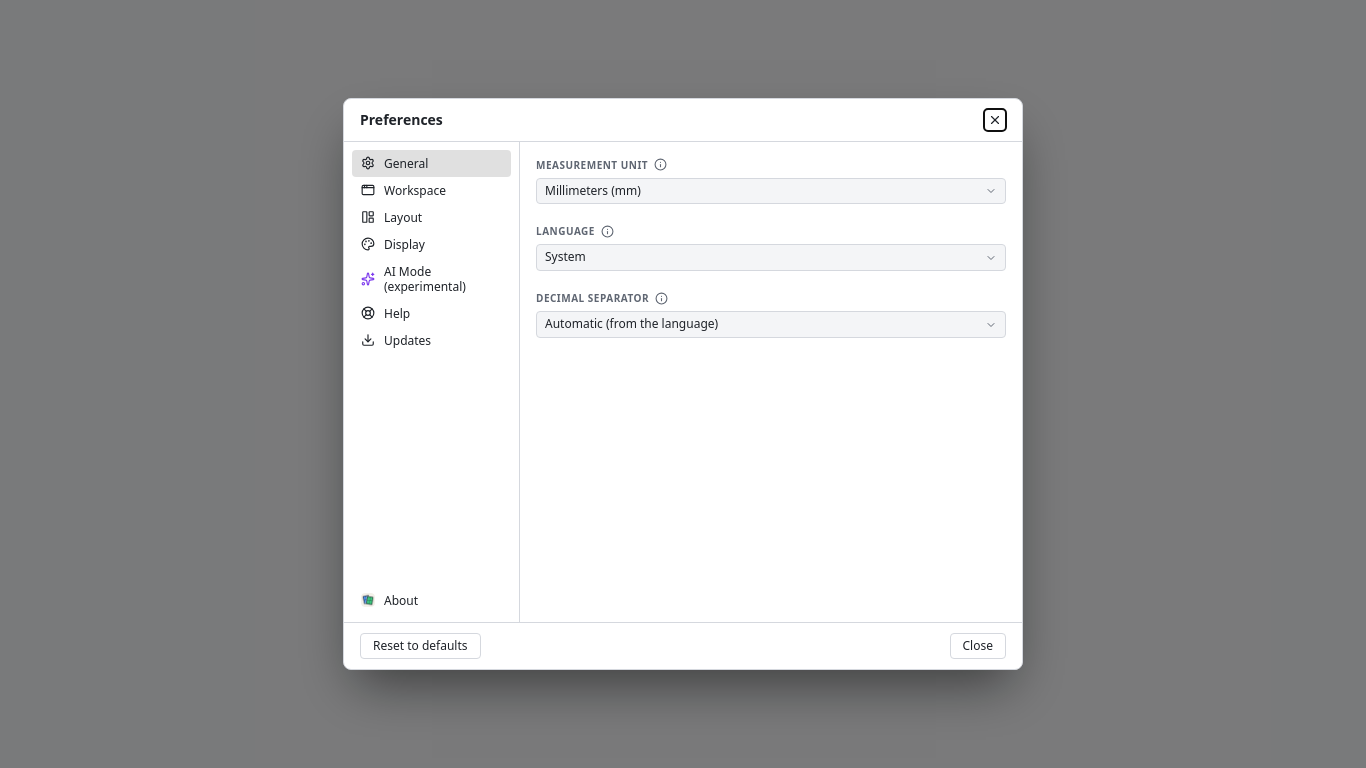
Test case: the Preferences sections › keeps only the views in Workspace
What coordinates should you click on to do the following:
click the button "Workspace"
I would click on:
 (432, 190)
Its box is [352,177,511,204].
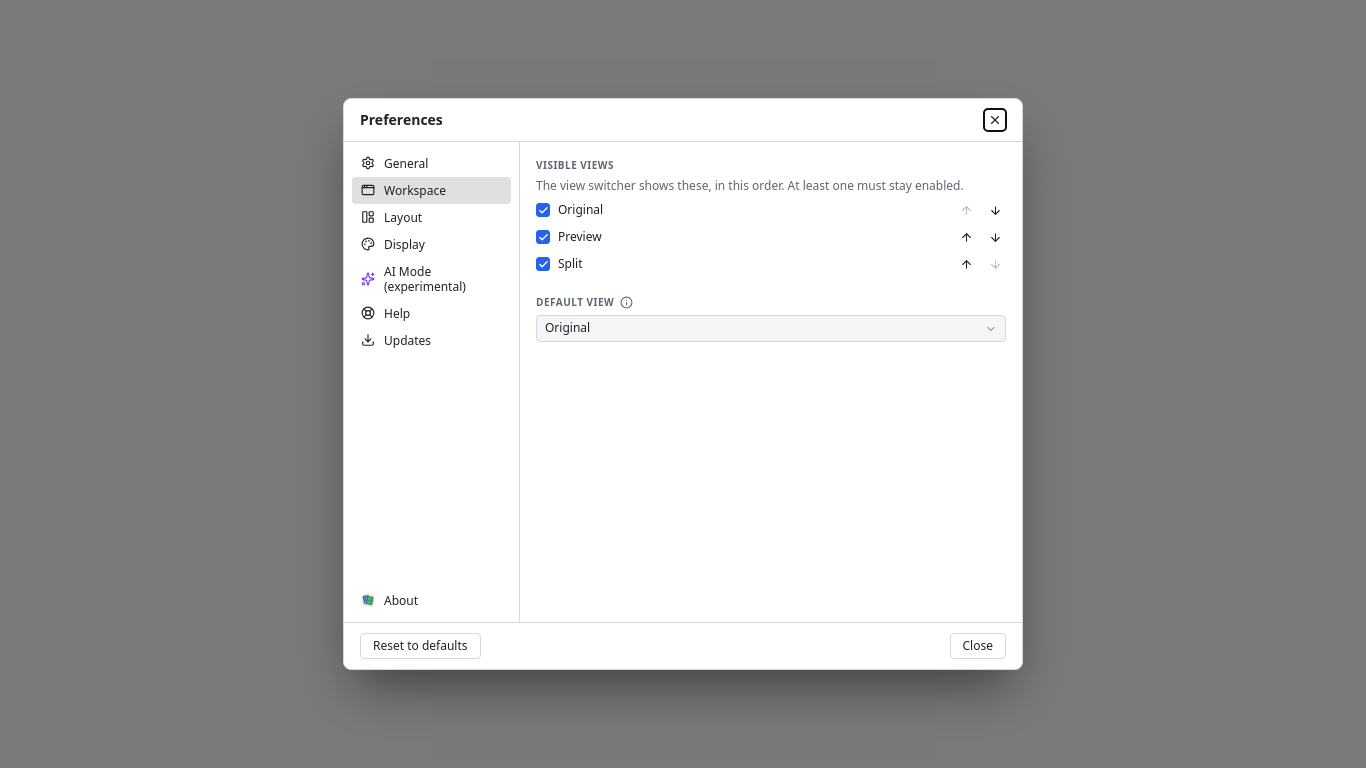
Expected: the text "Visible views" is shown, [536,158,614,172]
Expected: the text "Default view" is shown, [536,295,1006,309]
